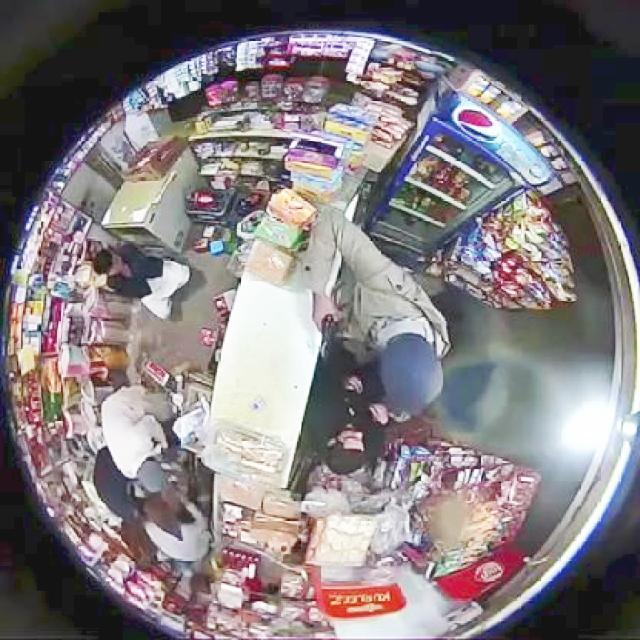Gun: (312, 303, 345, 362)
